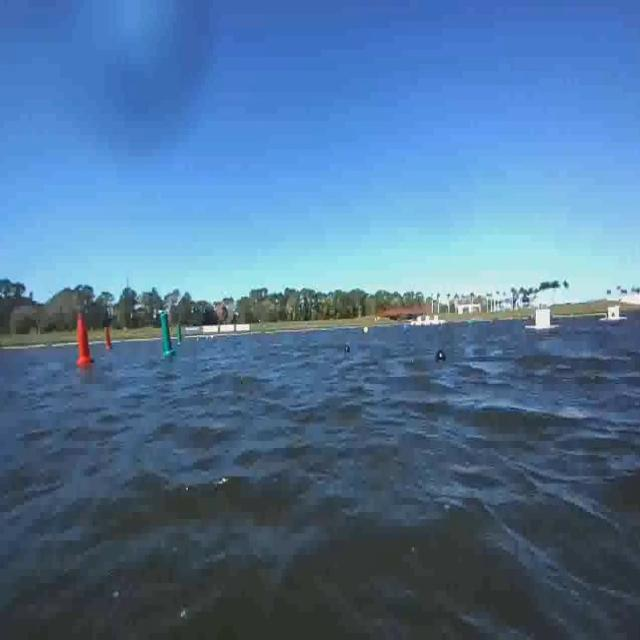black-buoy: (436, 350, 446, 361), (345, 344, 351, 356)
green-column-buoy: (159, 311, 177, 357), (177, 325, 182, 343)
red-column-buoy: (76, 313, 95, 368), (104, 326, 114, 350)
yellow-buoy: (362, 325, 369, 335)
